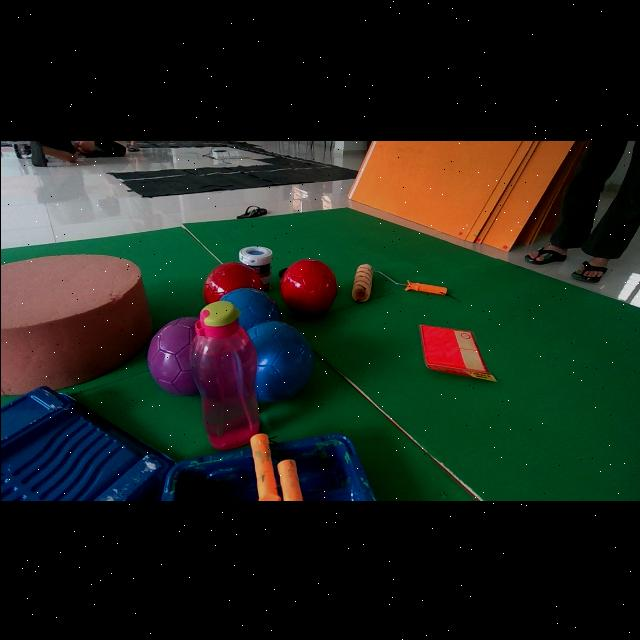B: (247, 321, 313, 401), (220, 287, 281, 329)
P: (146, 316, 197, 394)
R: (278, 258, 337, 316), (203, 261, 262, 302)
